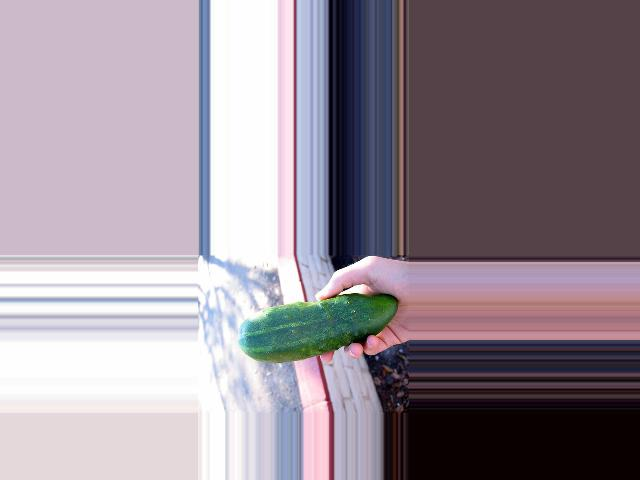cucumber: (238, 294, 397, 364)
